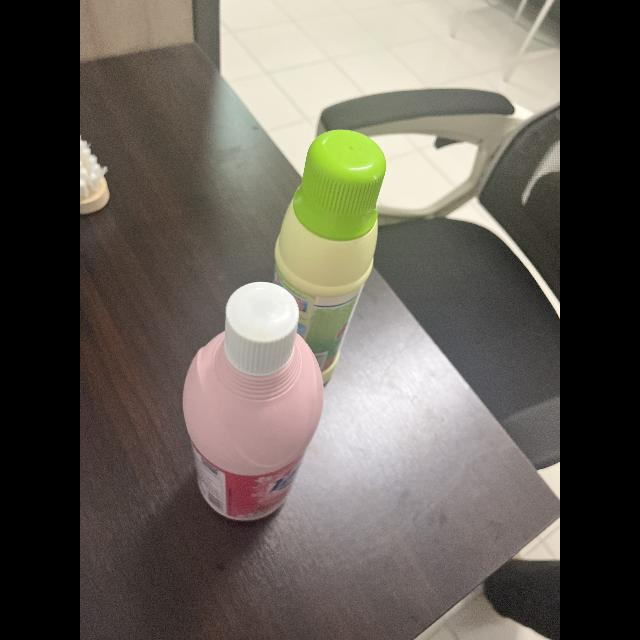chemical_plastic_bottle: (182, 275, 328, 527), (268, 125, 382, 371)
